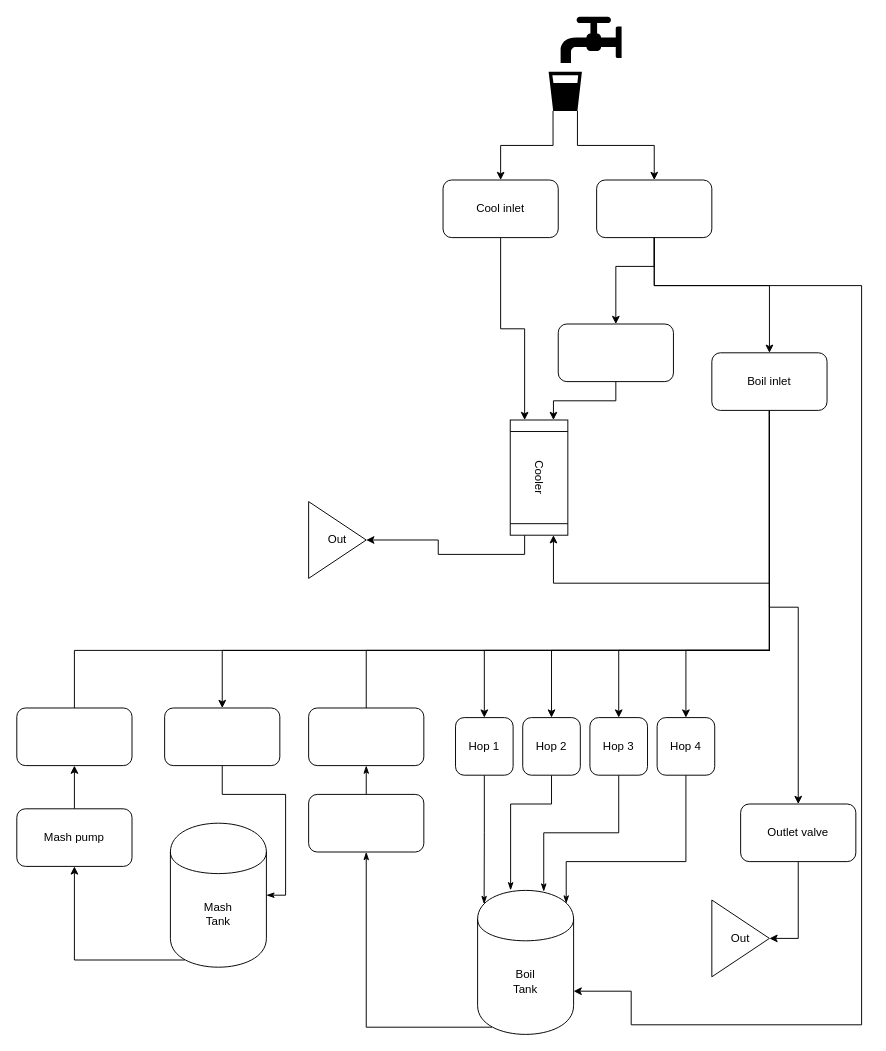
Image size: 886x1051. Some labels were removed from this diagram. The shapes that lost their labels are listed below. From the top down, each one's box as (x1, y1, x2, y2) in pixels, then its label:
(596, 179, 712, 238): Water inlet
(557, 323, 673, 382): Cool valve
(16, 707, 132, 766): Mash return
(164, 707, 280, 766): Mash inlet
(308, 707, 424, 766): Boil return
(308, 793, 424, 852): Boil pump
